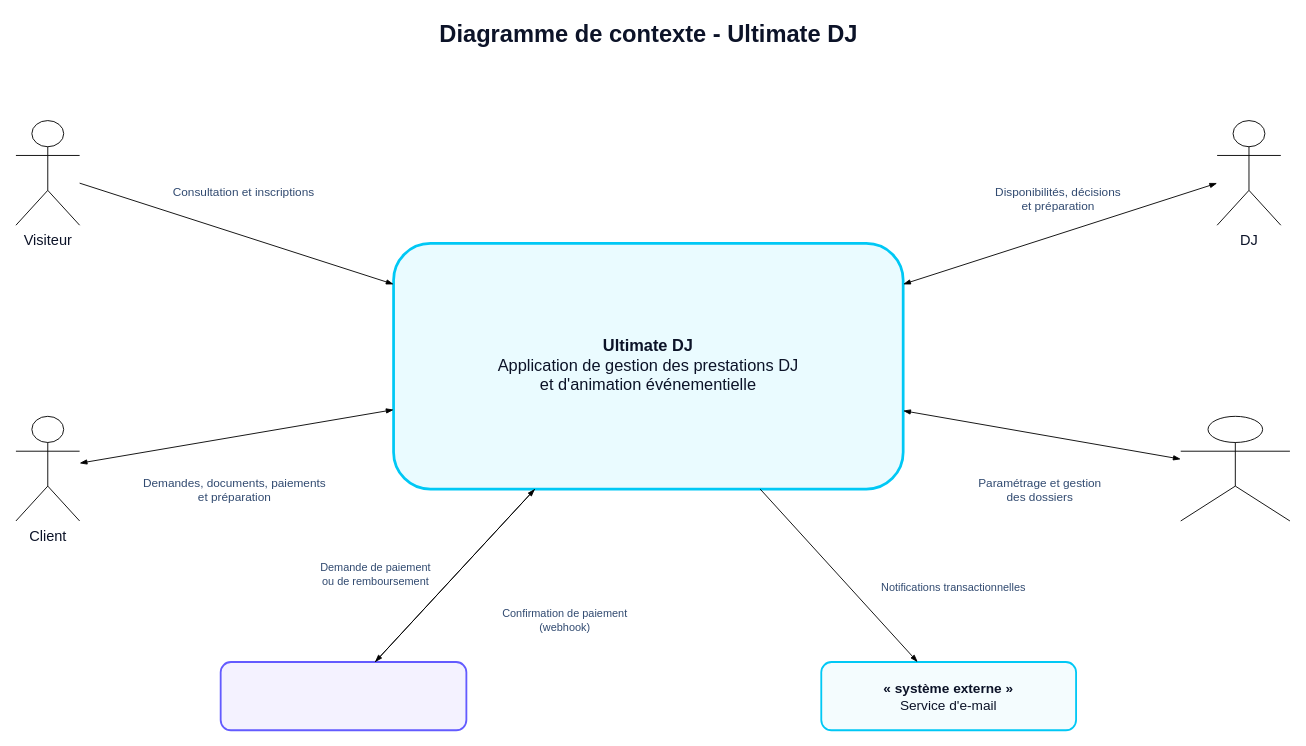
The diagram is 1306 pixels wide and 746 high, and some of its shapes have lost their labels. Here are the shapes that lost their labels. From the top down, the centre of each, then its label:
At point 1235,468: "Administrateur".
At point 343,696: "« système externe » Système de paiement (Stripe)".
